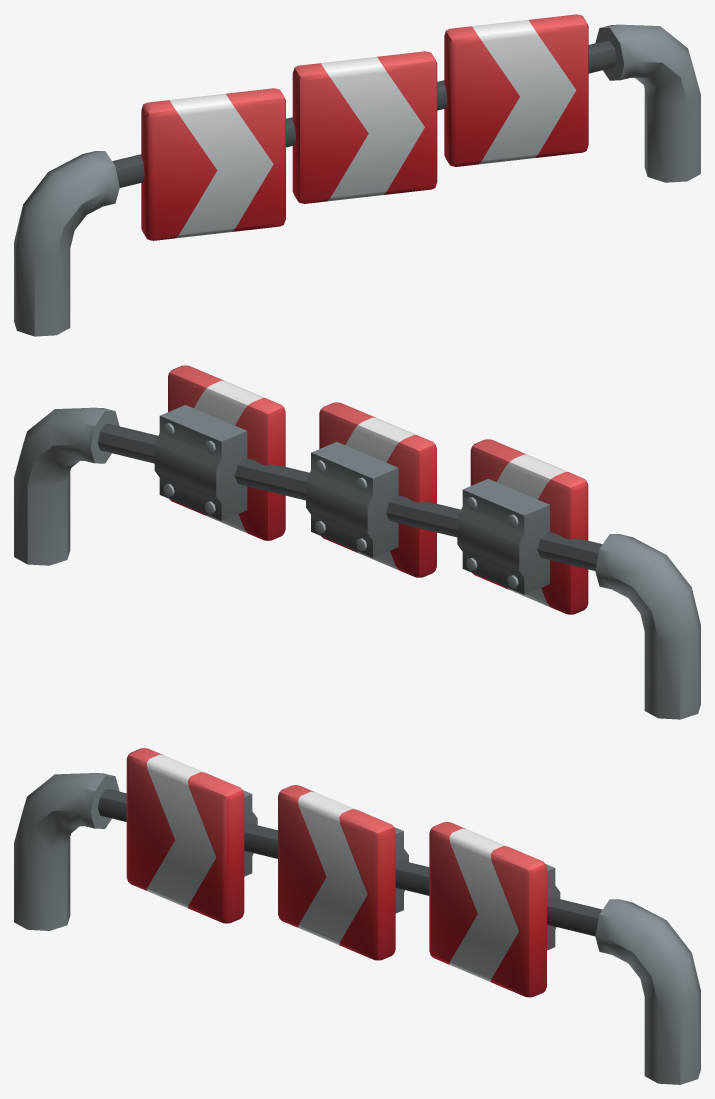
File: signage_arrows_right_red.glb
3 renders of one model, top to bottom at view 1: azimuth 30°, elevation 25°; view 2: azimuth 150°, elevation 25°; view 3: azimuth 330°, elevation 25°, orthographic.
Visible parts, largest first — view 1: signage_arrows_right_red; view 2: signage_arrows_right_red; view 3: signage_arrows_right_red.
Part boxes in pixels (box(x1,y1,x2,y2)): signage_arrows_right_red: box(14, 14, 700, 336); signage_arrows_right_red: box(14, 365, 700, 719); signage_arrows_right_red: box(14, 748, 700, 1084).
Bounding box in the file's own units: 5.4 × 1.5 × 0.6771.
1 material, 1 textured.
